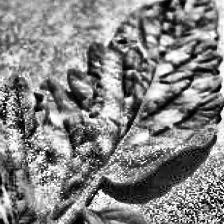leaf mold: (0, 0, 220, 224)
